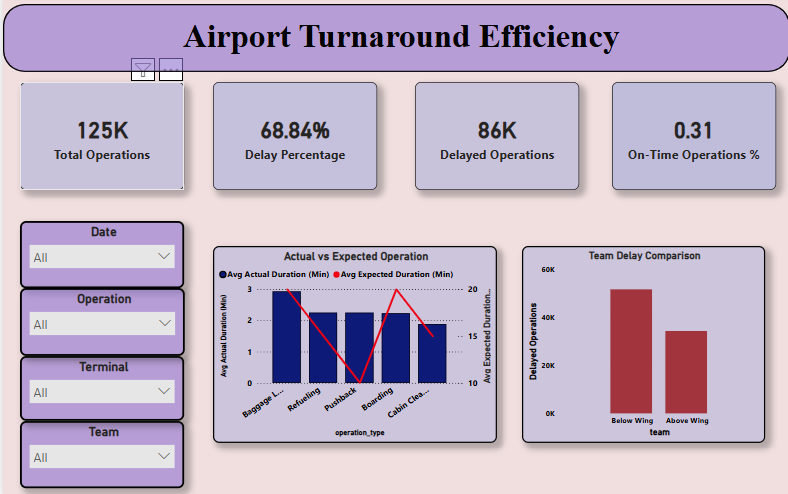

The page's visual inventory and layout, read from the dashboard file:
{"tool":"powerbi","page":{"name":"Page 1","canvas":[1275,810],"ordinal":0},"visuals":[{"type":"card","fields":{"Values":["Ground_Operation.Total Operations"]},"box":[27.5,139.3,265.7,175],"z":1000},{"type":"slicer","title":"Team","fields":{"Values":["Ground_Operation.team"]},"box":[27.5,688.5,265.7,108.5],"z":4000},{"type":"slicer","title":"Date","fields":{"Values":["Flights.flight_date"]},"box":[27.5,364.5,265.7,108.5],"z":5000},{"type":"slicer","title":"Terminal","fields":{"Values":["Flights.terminal"]},"box":[27.5,583.2,265.7,105.3],"z":6000},{"type":"slicer","title":"Operation ","fields":{"Values":["Ground_Operation.operation_type"]},"box":[27.5,473,267.3,110.2],"z":7000},{"type":"card","fields":{"Values":["Ground_Operation.Delayed Operations"]},"box":[667.4,139.3,265.7,175],"z":8000},{"type":"card","fields":{"Values":["Ground_Operation.Delay Percentage"]},"box":[340.2,139.3,265.7,175],"z":9000},{"type":"card","fields":{"Values":["Ground_Operation.On-Time Operations %"]},"box":[986.6,139.3,265.7,175],"z":10000},{"type":"shape","box":[0,13,1274.9,110.2],"z":11000},{"type":"textbox","box":[0,29.9,1290.1,94.5],"z":12000},{"type":"lineClusteredColumnComboChart","title":"Actual vs Expected Operation","fields":{"Y":["Ground_Operation.Avg Actual Duration (Min)"],"Y2":["Ground_Operation.Avg Expected Duration (Min)"],"Category":["Ground_Operation.operation_type"]},"box":[340.2,405,460.1,319.1],"z":12001},{"type":"clusteredColumnChart","title":"Team Delay Comparison","fields":{"Category":["Ground_Operation.team"],"Y":["Ground_Operation.Delayed Operations"]},"box":[840.8,405,393.7,319.1],"z":12002}]}

Visuals, with their boxes in screenshot pixels (x1, y1, x2, y2), scaled from the page's 1275x810 canvas onto the 788x494 screenshot:
card - Ground_Operation.Total Operations: bbox=(17, 85, 181, 192)
"Team" slicer: bbox=(17, 420, 181, 486)
"Date" slicer: bbox=(17, 222, 181, 288)
"Terminal" slicer: bbox=(17, 356, 181, 420)
"Operation " slicer: bbox=(17, 288, 182, 356)
card - Ground_Operation.Delayed Operations: bbox=(412, 85, 577, 192)
card - Ground_Operation.Delay Percentage: bbox=(210, 85, 374, 192)
card - Ground_Operation.On-Time Operations %: bbox=(610, 85, 774, 192)
shape: bbox=(0, 8, 787, 75)
textbox: bbox=(0, 18, 787, 76)
"Actual vs Expected Operation" lineClusteredColumnComboChart: bbox=(210, 247, 495, 442)
"Team Delay Comparison" clusteredColumnChart: bbox=(520, 247, 763, 442)
